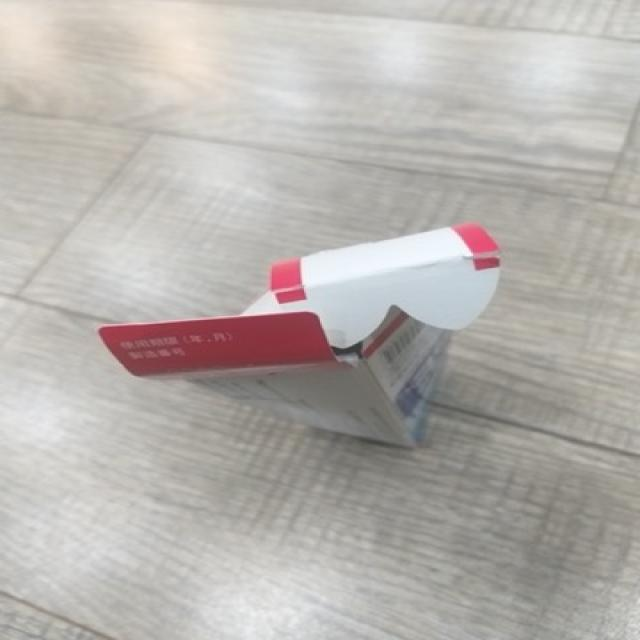PaperCardboard: (104, 227, 514, 458)
